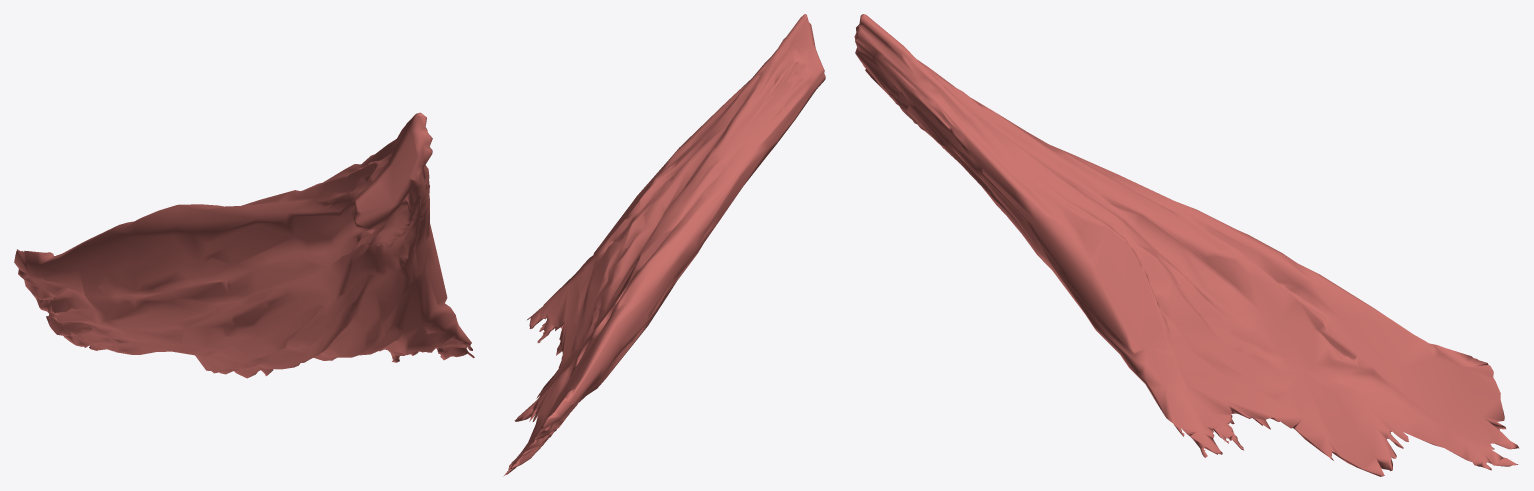
3 renders of one model, left to right at view 1: azimuth 30°, elevation 25°; view 2: azimuth 150°, elevation 25°; view 3: azimuth 270°, elevation 25°, orthographic. The views are drawn at different scales.
Parts seen in each view (by area): view 1: 右侧胸小肌; view 2: 右侧胸小肌; view 3: 右侧胸小肌.
Boxes of the visible parts, x1,y1,x2,y2 form: 右侧胸小肌: (14,112,474,378); 右侧胸小肌: (503,14,825,476); 右侧胸小肌: (854,14,1519,476).
Size of the model in its own units: 0.0867 by 0.1401 by 0.2048.
